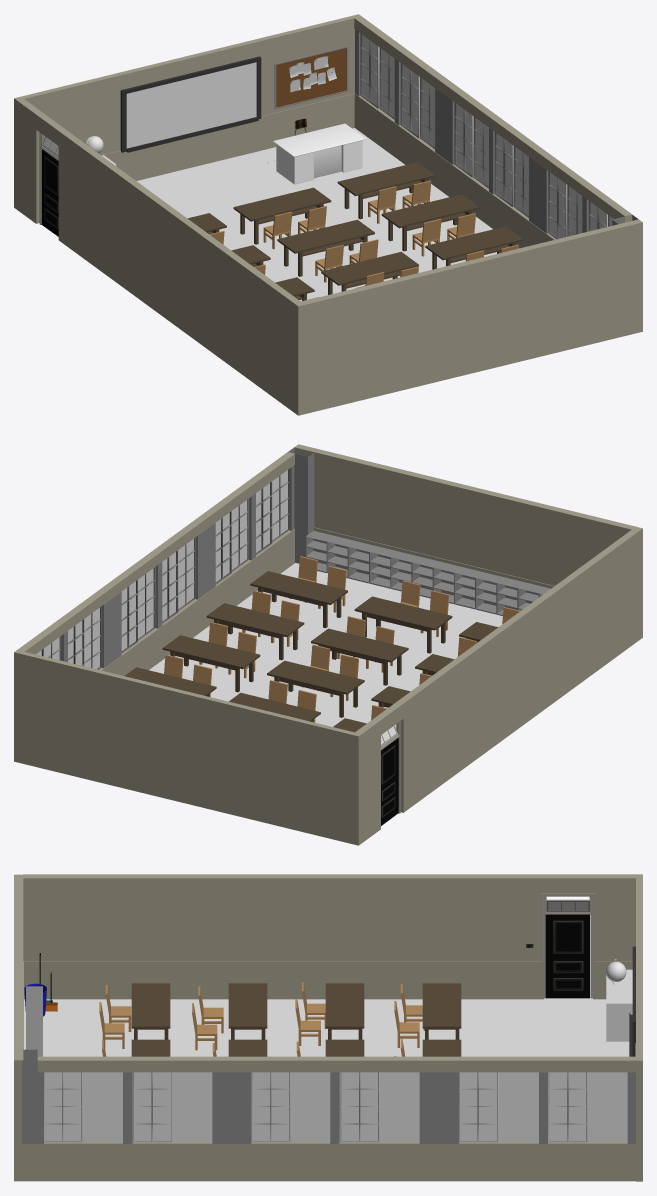
Rendered from aset Sekolah.fbx.
3 views of the same model, one above another, from view 1: azimuth 30°, elevation 25°; view 2: azimuth 150°, elevation 25°; view 3: azimuth 270°, elevation 25° (orthographic). The views are drawn at different scales.
Parts seen in each view (by area): view 1: Cube.003, Plane, Cube.004, Plane.002, Plane.001, ChamferBox01, corkboard.000, Cube, Box25.001, wall.002, wall.006, woodWindow.009 (+7 smaller); view 2: Cube.003, Cube.004, Plane, Cube.028, Plane.002, wall.000, Box25.001, wall.002, wall.006; view 3: Cube.003, Plane.002, Plane, Cube.004, Box25.001, wall.002, wall.006, wall.000, Cube.029, Cube.028, woodWindow.008, wall.001 (+18 smaller).
Boxes of the visible parts, x1=… form: Cube.003: x1=14, y1=14, x2=642, y2=415; Plane: x1=136, y1=128, x2=518, y2=301; Cube.004: x1=187, y1=162, x2=523, y2=300; Plane.002: x1=362, y1=35, x2=613, y2=238; Plane.001: x1=126, y1=62, x2=256, y2=148; ChamferBox01: x1=273, y1=123, x2=365, y2=184; corkboard.000: x1=274, y1=46, x2=348, y2=109; Cube: x1=120, y1=56, x2=261, y2=152; Box25.001: x1=41, y1=149, x2=58, y2=236; wall.002: x1=529, y1=157, x2=548, y2=233; wall.006: x1=435, y1=88, x2=454, y2=164; woodWindow.009: x1=454, y1=102, x2=473, y2=177; Cube.003: x1=14, y1=444, x2=642, y2=845; Cube.004: x1=124, y1=571, x2=498, y2=732; Plane: x1=149, y1=563, x2=502, y2=728; Cube.028: x1=305, y1=530, x2=550, y2=615; Plane.002: x1=36, y1=470, x2=287, y2=669; wall.000: x1=288, y1=447, x2=314, y2=563; Box25.001: x1=381, y1=738, x2=398, y2=825; wall.002: x1=195, y1=523, x2=215, y2=599; wall.006: x1=101, y1=592, x2=121, y2=668; Cube.003: x1=14, y1=874, x2=642, y2=1181; Plane.002: x1=44, y1=1072, x2=627, y2=1141; Plane: x1=24, y1=997, x2=629, y2=1056; Cube.004: x1=131, y1=983, x2=461, y2=1056; Box25.001: x1=545, y1=914, x2=590, y2=998; wall.002: x1=212, y1=1072, x2=251, y2=1143; wall.006: x1=419, y1=1072, x2=458, y2=1143; wall.000: x1=22, y1=1049, x2=43, y2=1143; Cube.029: x1=606, y1=969, x2=632, y2=1041; Cube.028: x1=26, y1=986, x2=42, y2=1056; woodWindow.008: x1=339, y1=1072, x2=379, y2=1142; wall.001: x1=330, y1=1072, x2=339, y2=1143.
Size of the model in its own units: 966 by 296 by 1381.
